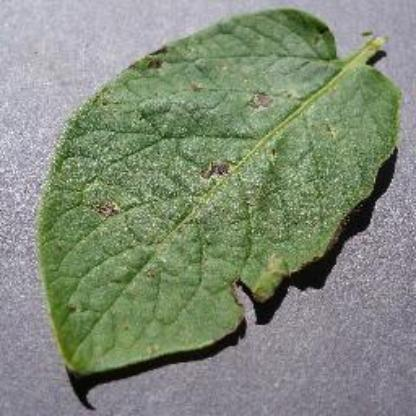Early-Blight: (37, 5, 410, 379)
